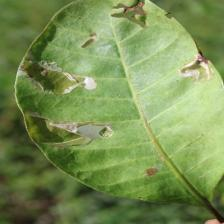leaf miner: (13, 0, 223, 218), (110, 0, 148, 28)
